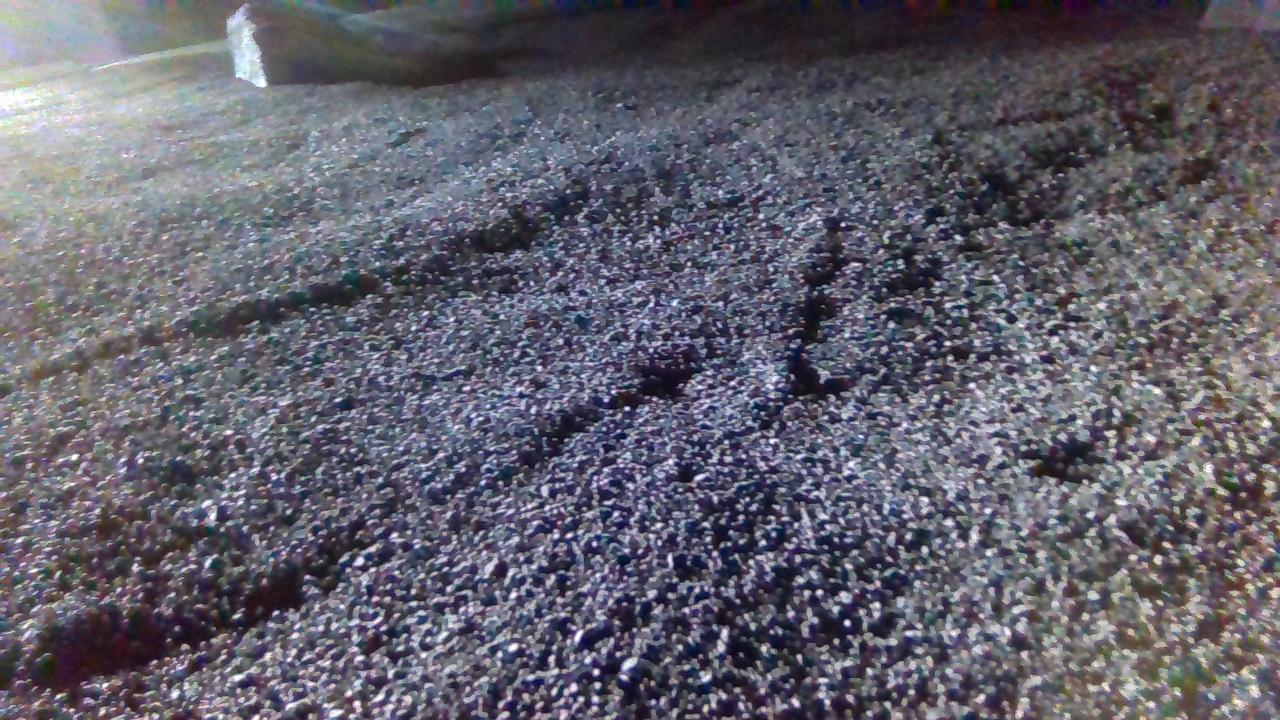rock: (230, 6, 353, 90), (1203, 0, 1280, 28)
